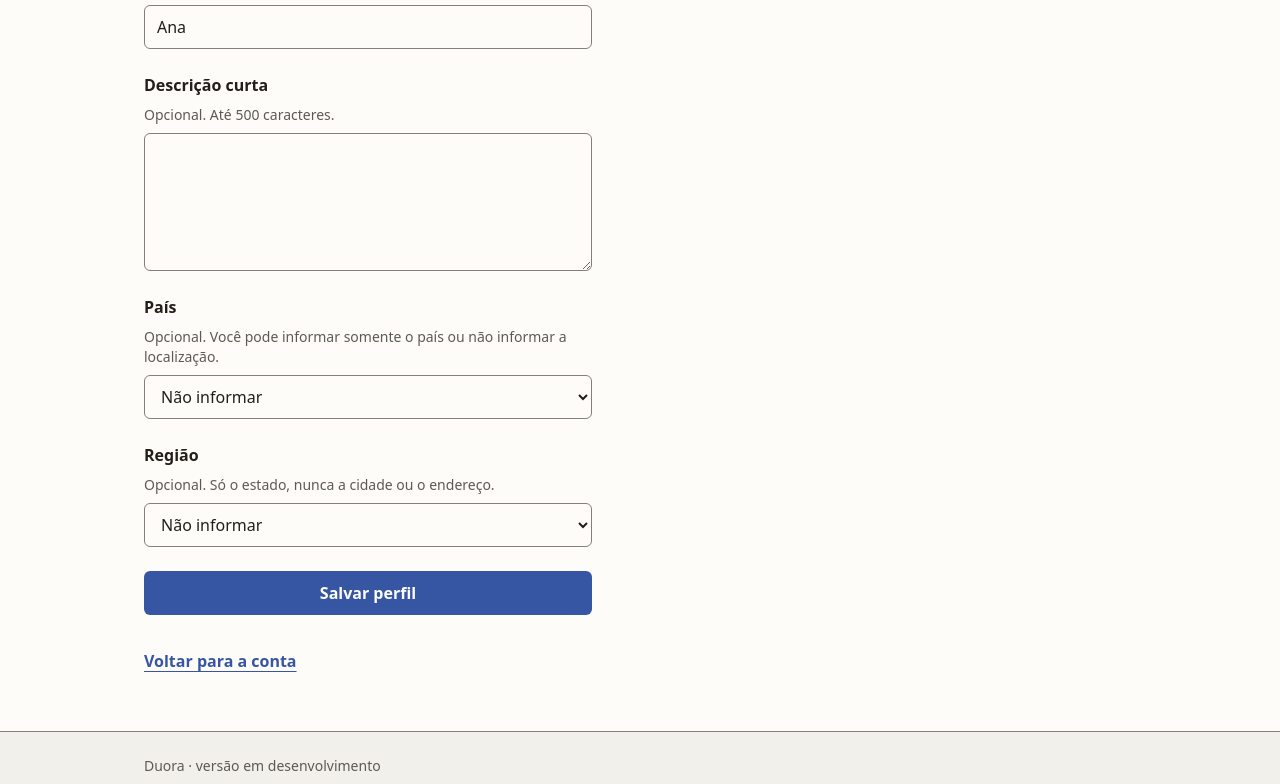
Test case: perfil: leitura › o perfil sai da memória quando a pessoa deixa a tela (gcTime 0, T-21)
(page scrolled)
Expected: the field labelled "Nome de exibição" is shown, [144,5,592,49]
Click the link "Voltar para a conta": (220, 661) [144,650,296,672]
(page scrolled)
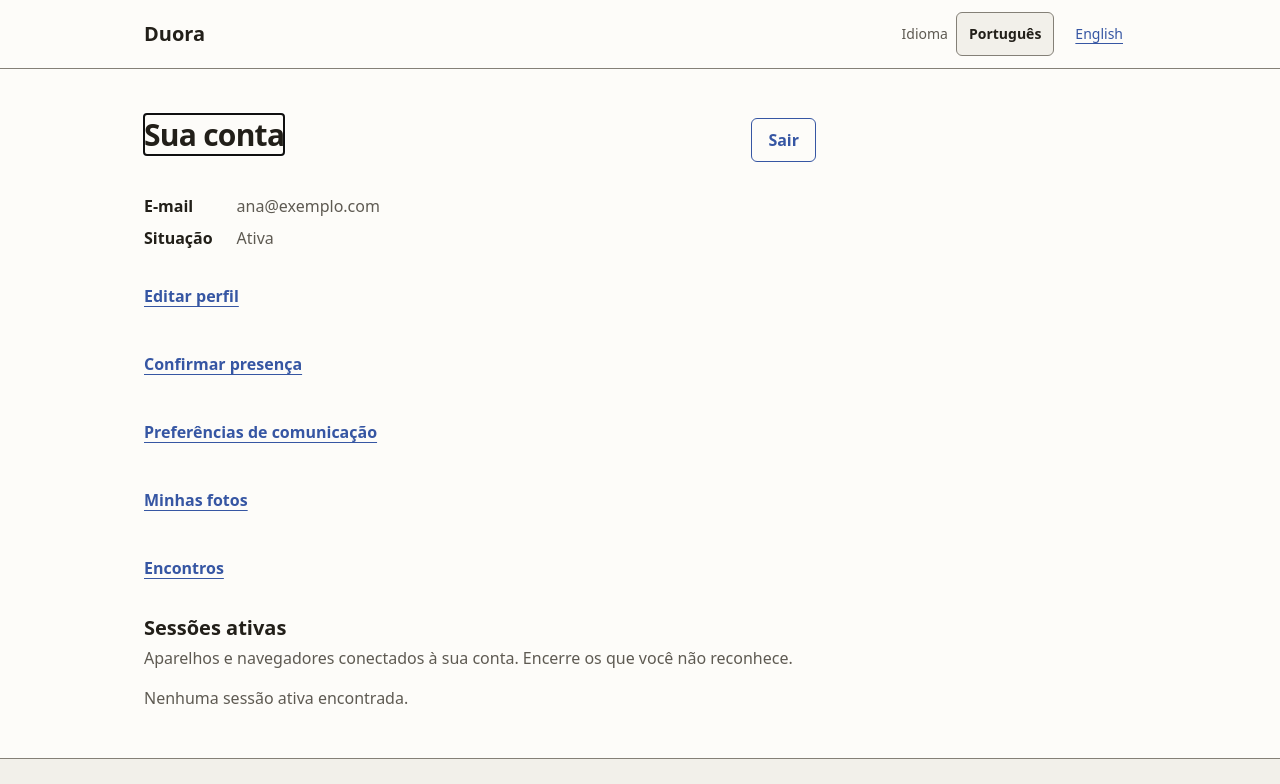
Expected: the heading "Sua conta" is shown, [144,117,284,153]
